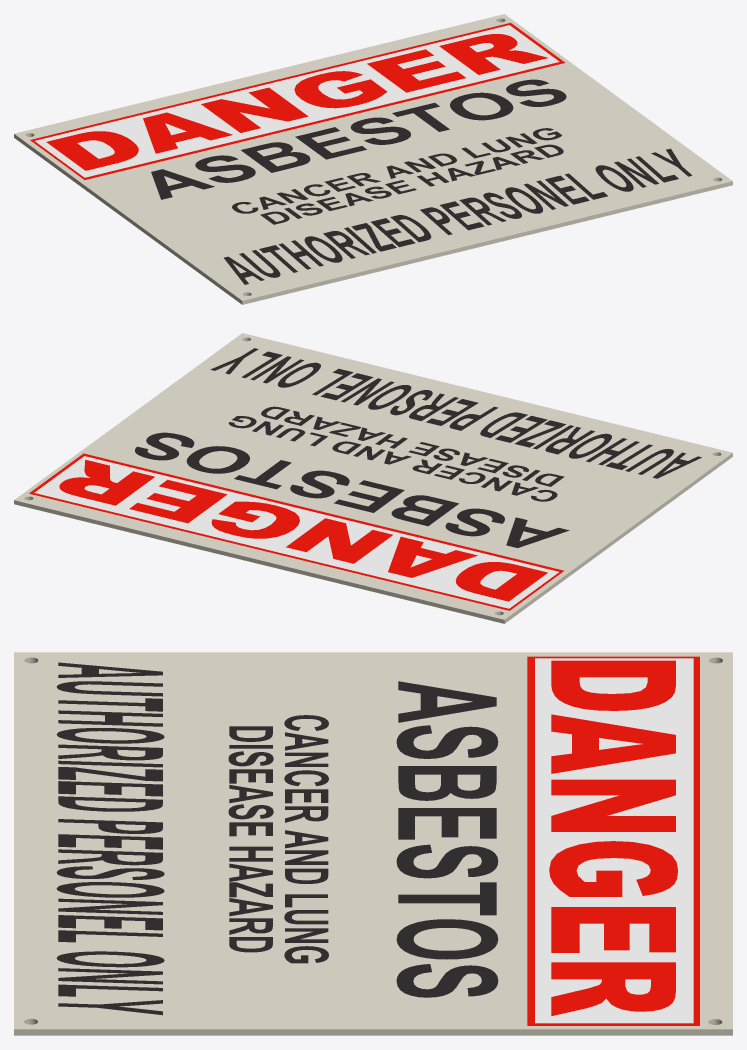
Rendered from dangersign.dae.
3 views of the same model, one above another, from view 1: azimuth 30°, elevation 25°; view 2: azimuth 150°, elevation 25°; view 3: azimuth 270°, elevation 25° (orthographic). The views are drawn at different scales.
Parts seen in each view (by area): view 1: Component_109 (×3), DANGER (×6), ASBESTOS (×8); view 2: Component_109 (×3), DANGER (×6), ASBESTOS (×8); view 3: Component_109 (×3), DANGER (×6), AUTHORIZED_PERSO (×18), ASBESTOS (×8).
Boxes of the visible parts, x1,y1,x2,y2 form: Component_109 (×3): (14,14,732,304); DANGER (×6): (46,34,547,170); ASBESTOS (×8): (151,79,566,199); Component_109 (×3): (14,333,732,623); DANGER (×6): (59,459,547,601); ASBESTOS (×8): (135,432,569,547); Component_109 (×3): (14,652,732,1035); DANGER (×6): (549,660,677,1015); AUTHORIZED_PERSO (×18): (56,662,164,1015); ASBESTOS (×8): (396,681,498,997).
Size of the model in its own units: 15.81 by 12.75 by 0.175.
